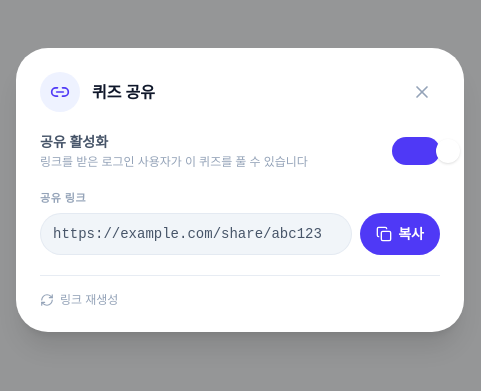
Test case: ShareDialog › shows confirmation prompt when regenerate is clicked
Click the button "링크 재생성".
click(79, 300)  # box x1=40 y1=292 x2=118 y2=308
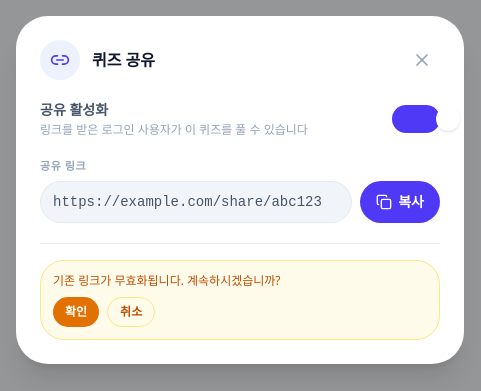
Now the text "기존 링크가 무효화됩니다. 계속하시겠습니까?" is shown, box x1=53 y1=272 x2=280 y2=289
